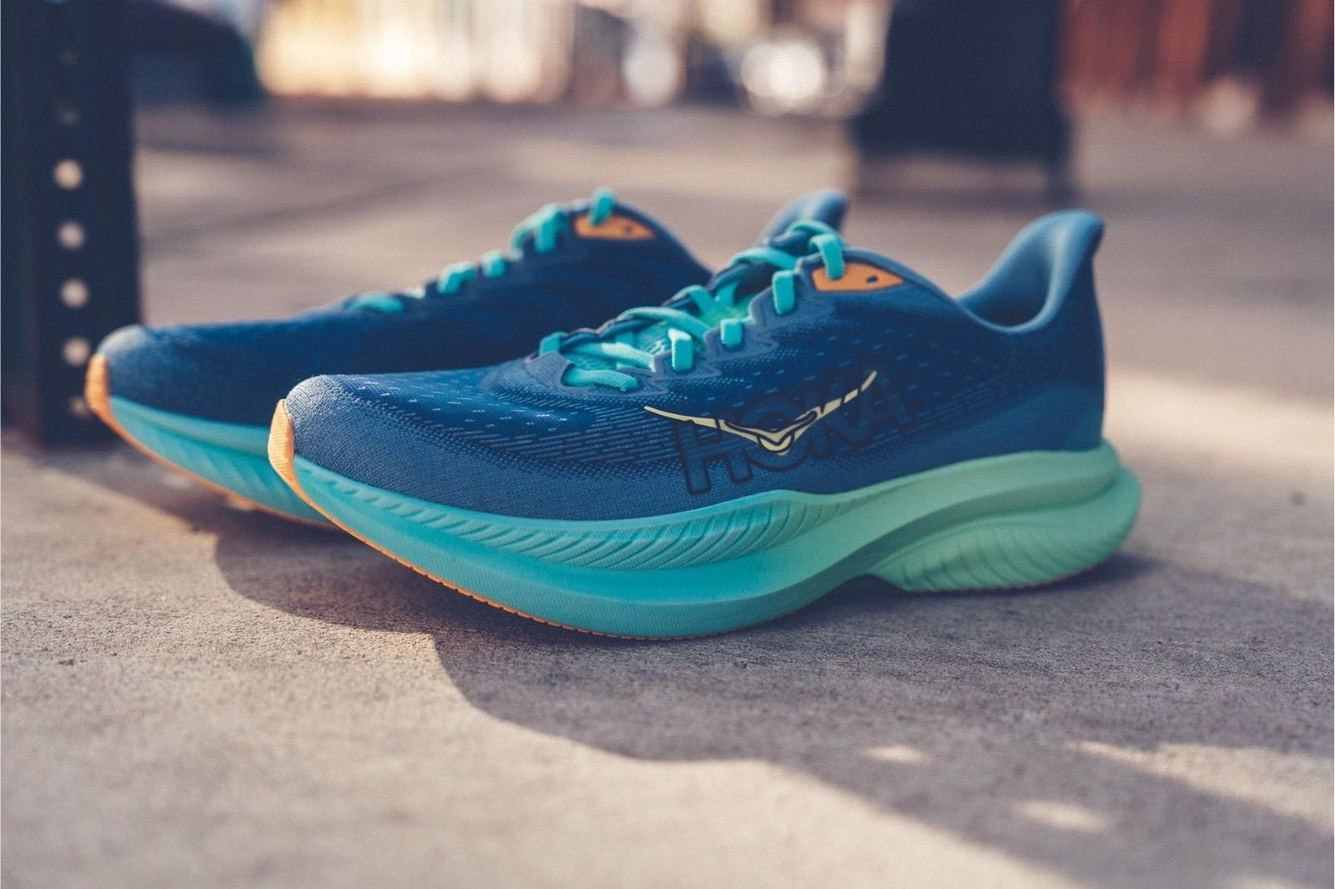hoka logo: (665, 363, 906, 495)
